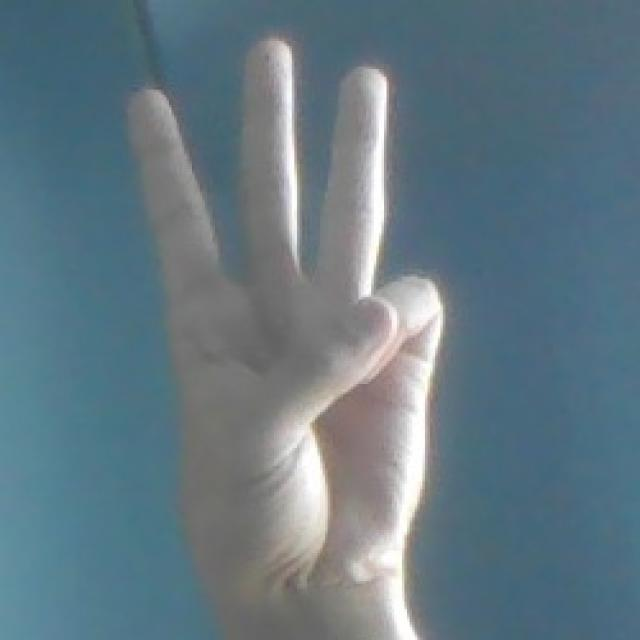Numeric-6: (111, 20, 470, 592)
